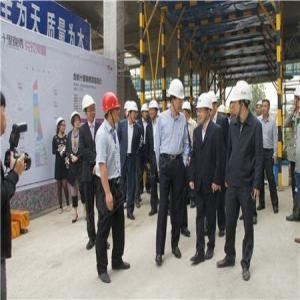none: (262, 101, 271, 117)
red: (103, 92, 121, 124)
white: (233, 81, 253, 117), (197, 94, 213, 126), (169, 79, 184, 113), (82, 95, 98, 122), (209, 92, 218, 117), (128, 101, 138, 123), (149, 102, 159, 121), (71, 112, 82, 129), (57, 117, 67, 134), (183, 103, 192, 120), (142, 105, 150, 120), (257, 100, 264, 116)
